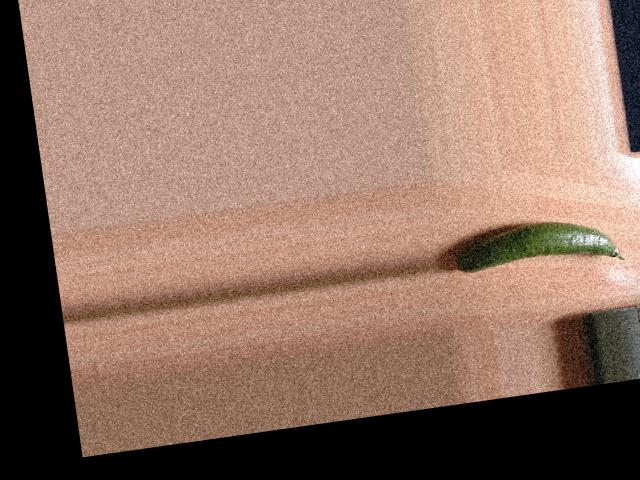cucumber: (450, 210, 625, 282)
